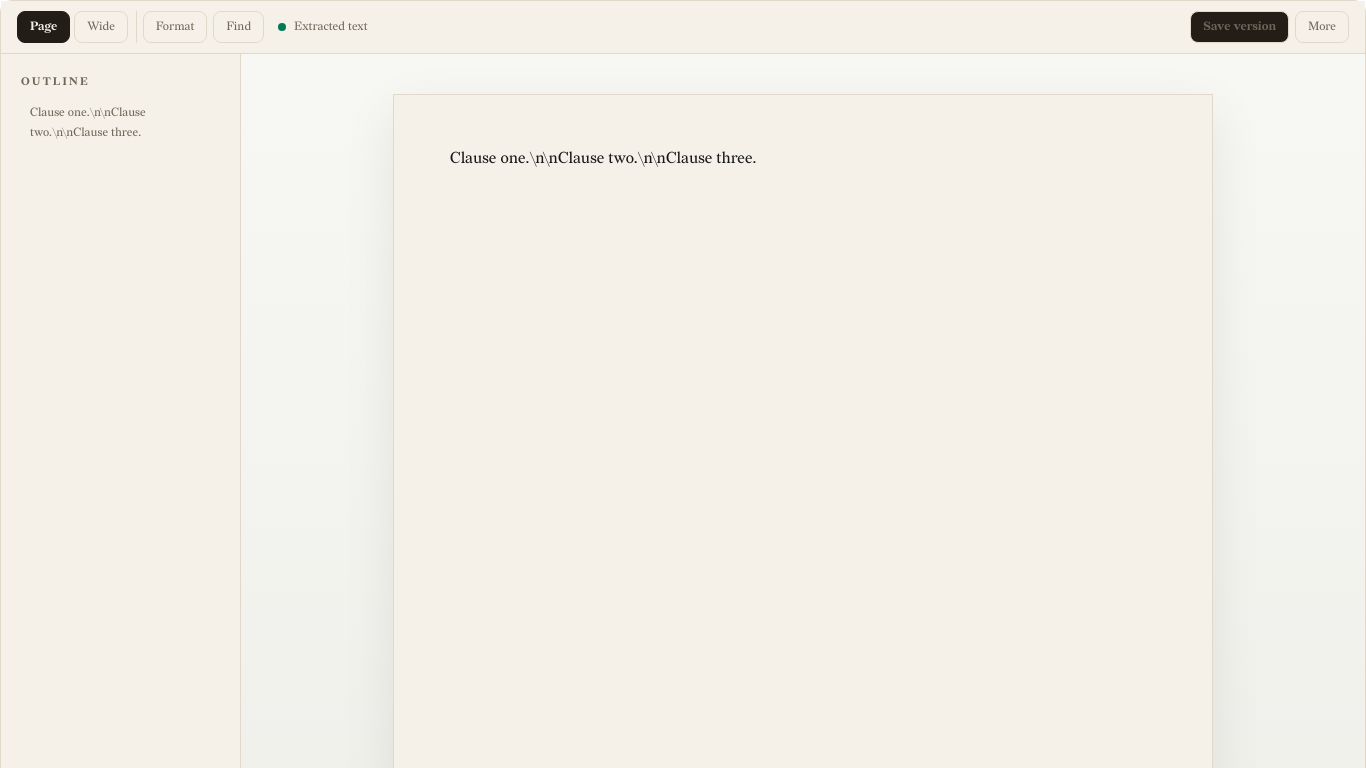
DocumentRichEditor surface › lets the reader move through find results
Click the button "Find" at (239, 27), box [214, 11, 264, 43]
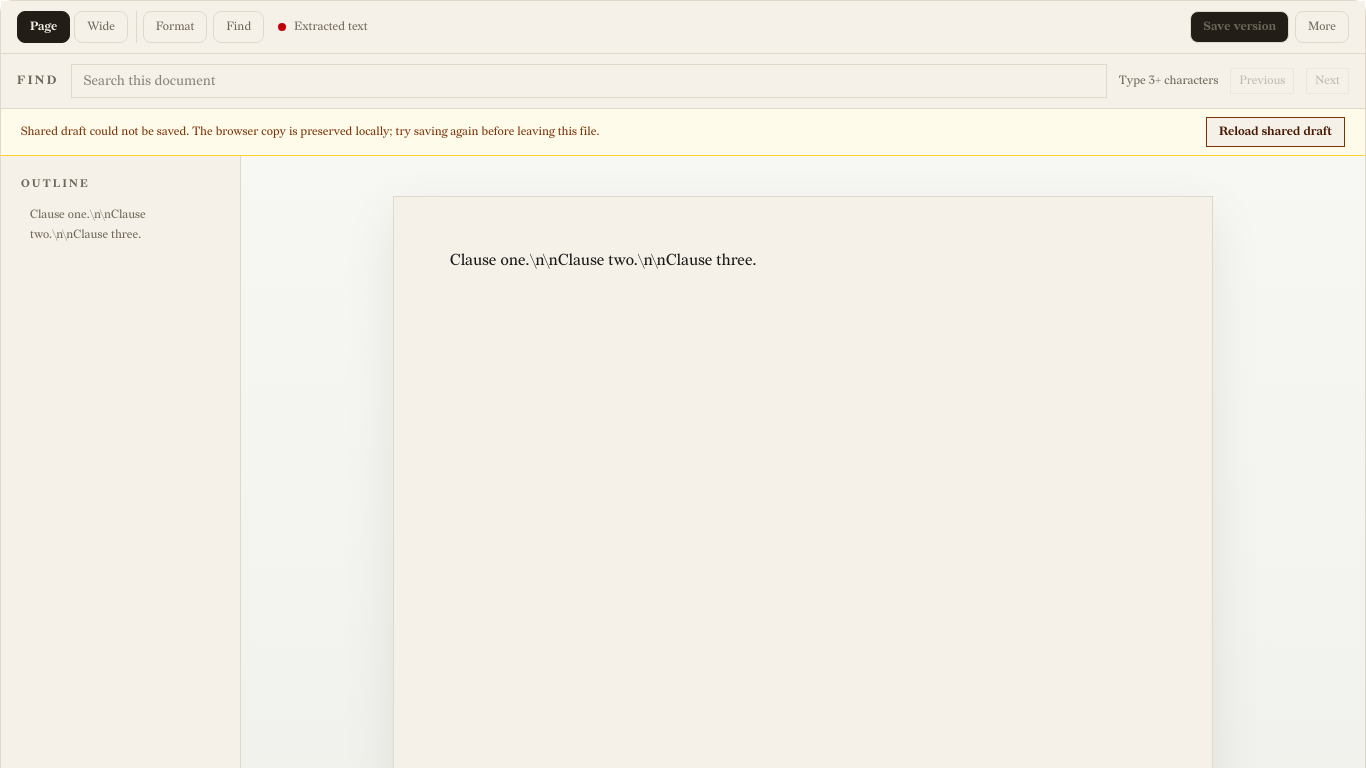
Type "Clause" into the search field labelled "Find" at (589, 81), box [71, 64, 1107, 98]
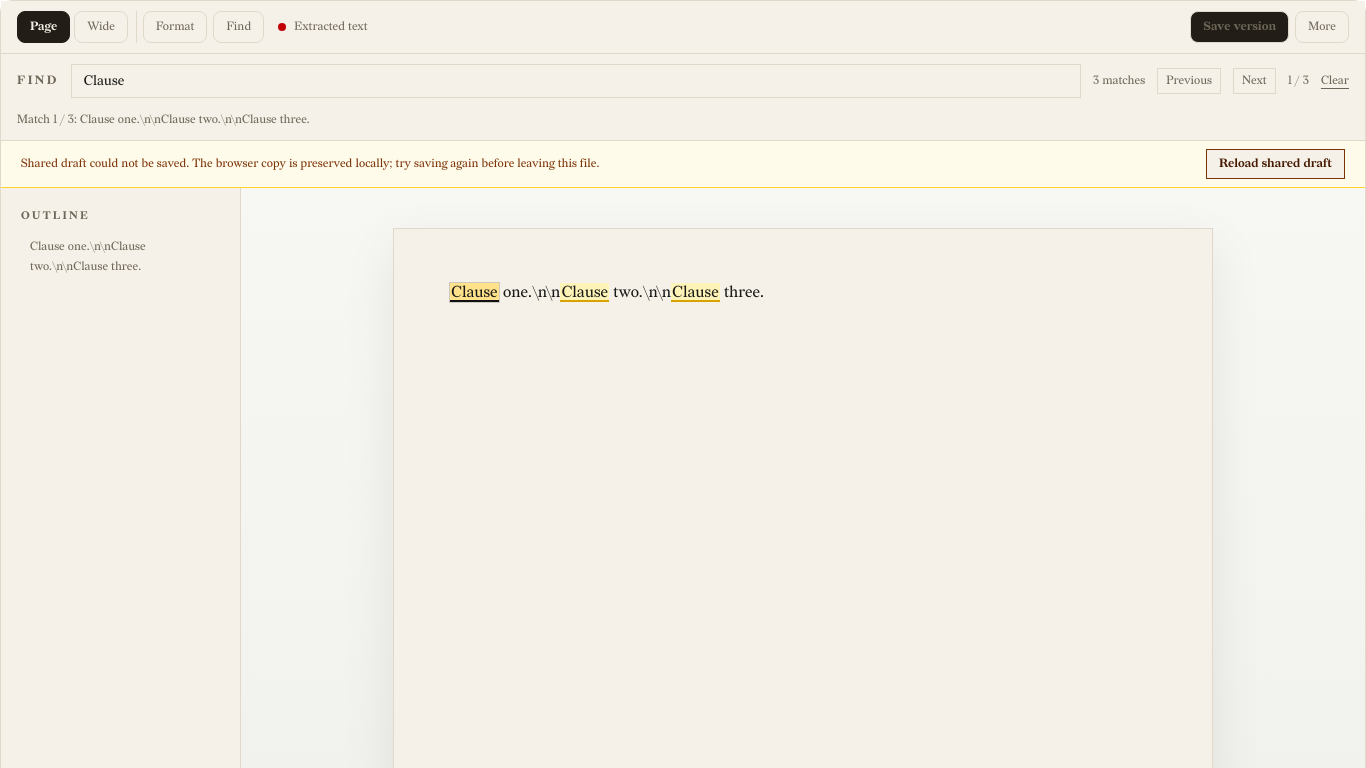
Result: the text with test id "document-editor-find-count" reads "3 matches" at [1093, 73, 1145, 88]
Result: the text with test id "document-editor-find-position" reads "1 / 3" at [1288, 73, 1309, 88]
Result: the 1st text box labelled "Clause" is shown at [450, 283, 499, 302]
Click the button "Next" at (1254, 81), box [1233, 68, 1276, 94]
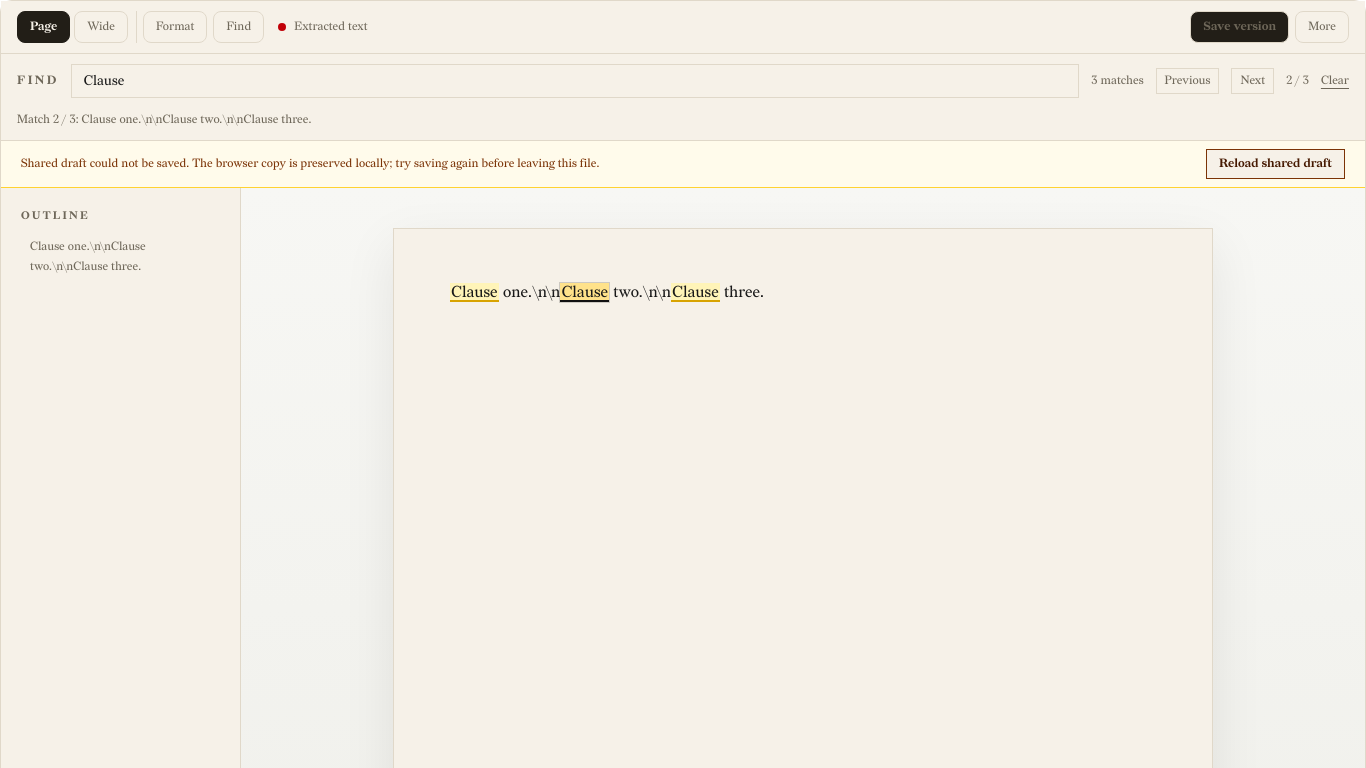
Result: the 2nd text box labelled "Clause" is shown at [560, 283, 609, 302]
Result: the text with test id "document-editor-find-position" reads "2 / 3" at [1286, 73, 1309, 88]
Click the button "Previous" at (1188, 81), box [1156, 68, 1220, 94]
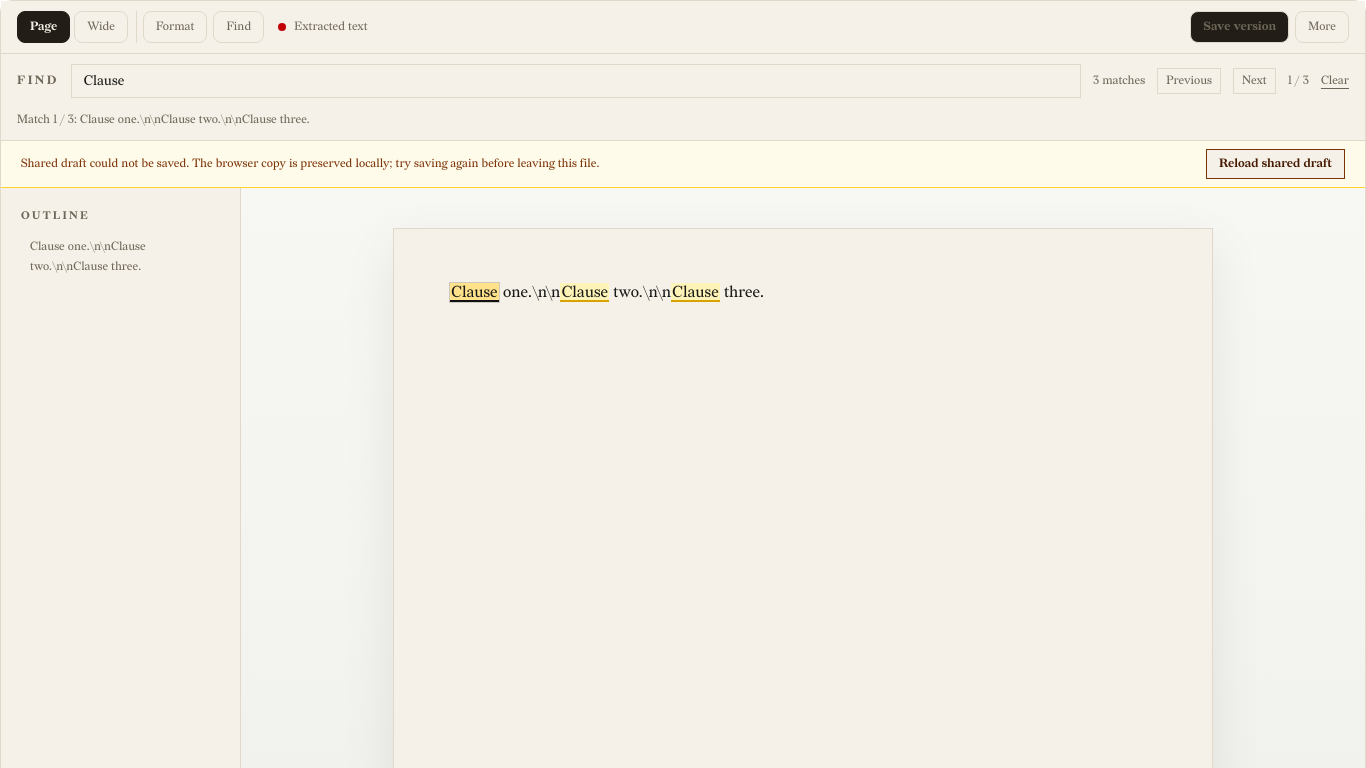
Result: the text with test id "document-editor-find-position" reads "1 / 3" at [1288, 73, 1309, 88]
Result: the text with test id "document-editor-find-preview" shows "Match 1 / 3:" at [17, 112, 310, 127]
Press Enter in the search field labelled "Find", box [71, 64, 1081, 98]
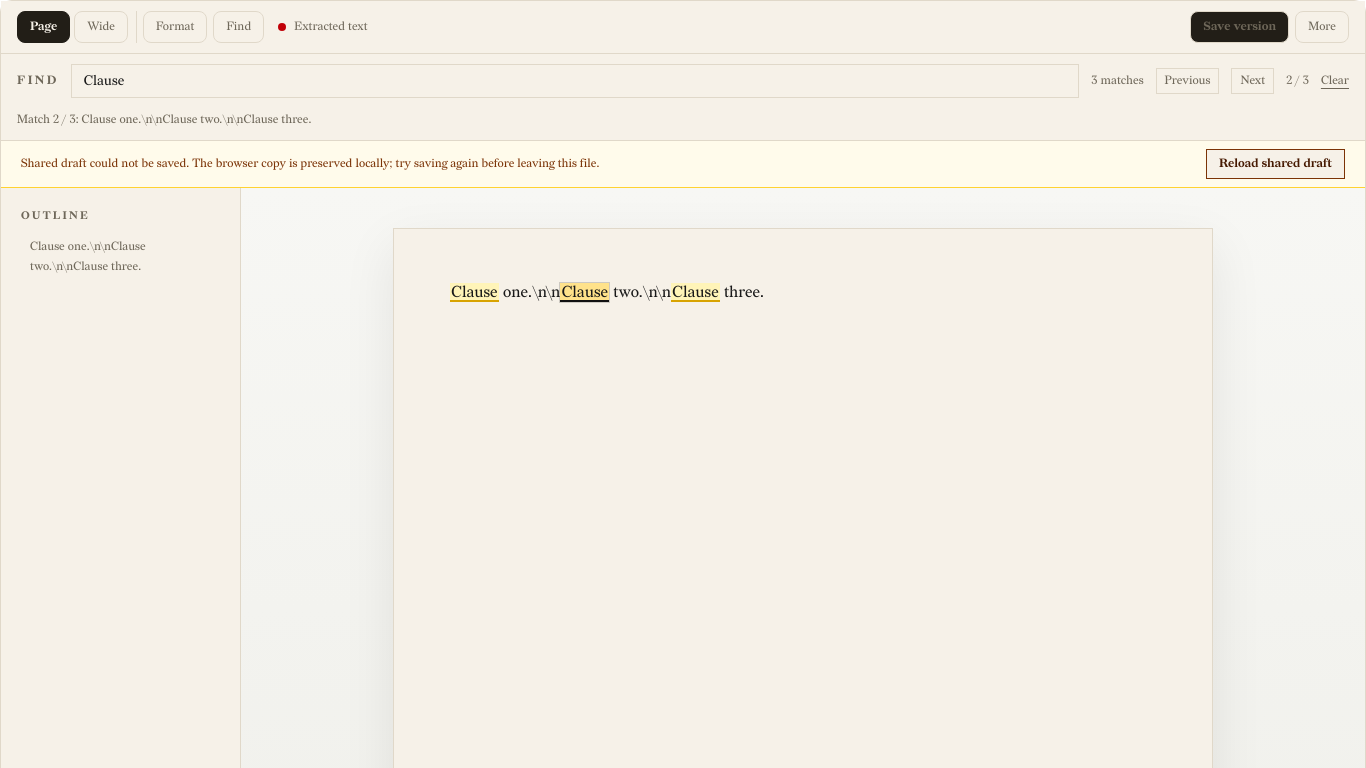
Result: the text with test id "document-editor-find-position" reads "2 / 3" at [1286, 73, 1309, 88]
Press Enter in the search field labelled "Find", box [71, 64, 1079, 98]
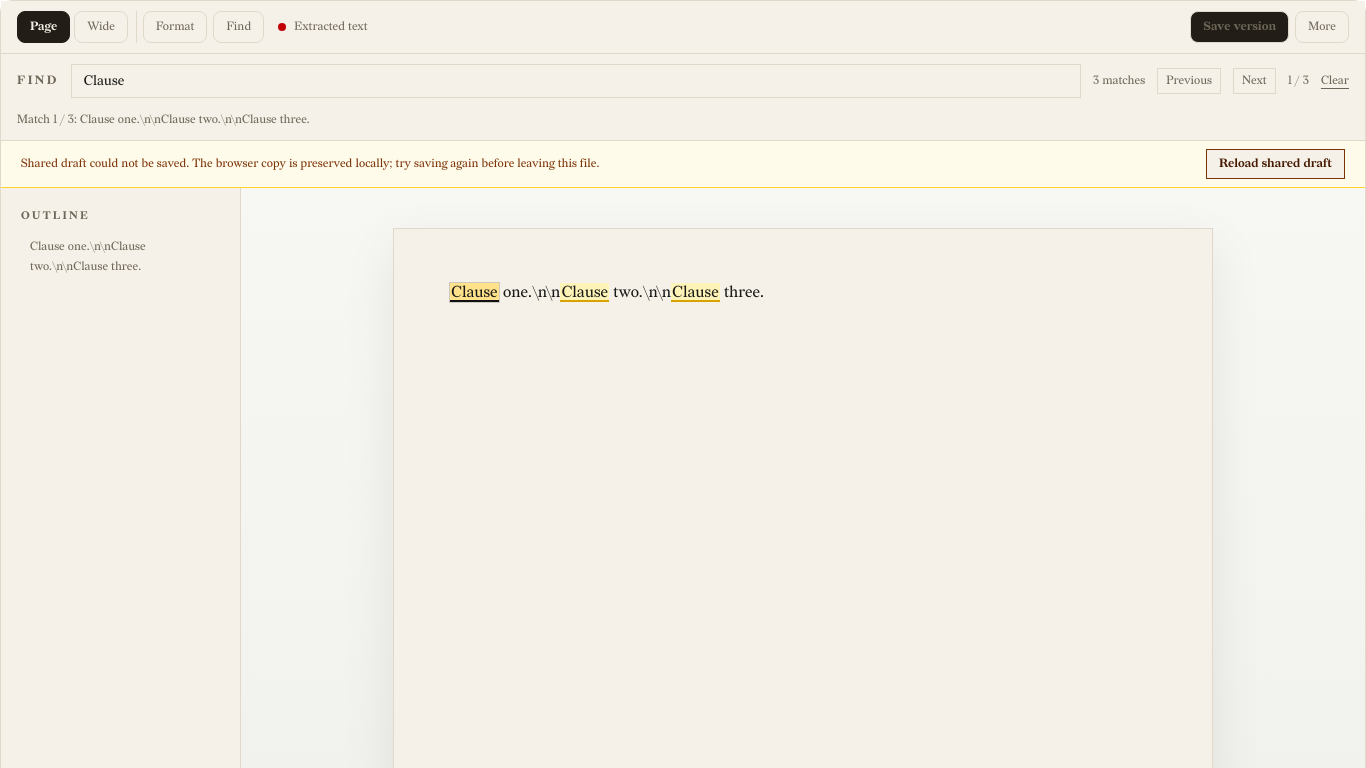
Result: the text with test id "document-editor-find-position" reads "1 / 3" at [1288, 73, 1309, 88]
